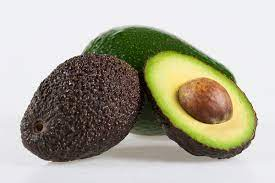avocado: (144, 51, 258, 159)
